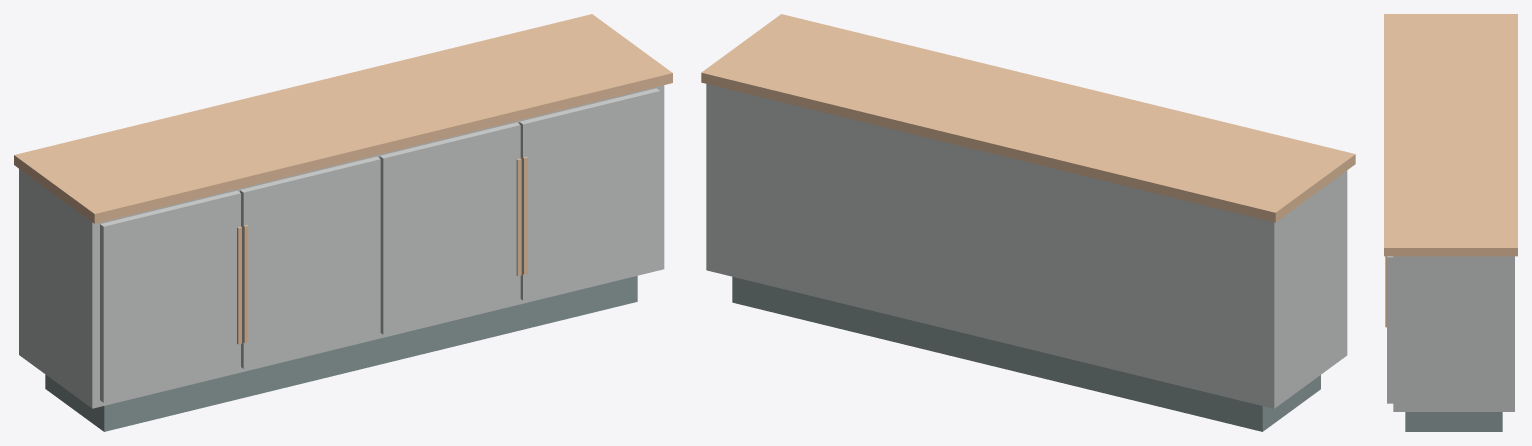
The model's file is credenzaModern.glb.
The picture shows the model from 3 angles, left to right: view 1: azimuth 30°, elevation 25°; view 2: azimuth 150°, elevation 25°; view 3: azimuth 270°, elevation 25°; orthographic projection. The views are drawn at different scales.
Visible parts, largest first — view 1: credenzaModern; view 2: credenzaModern; view 3: credenzaModern.
Part boxes in pixels (x1=…): credenzaModern: x1=14, y1=14, x2=672, y2=431; credenzaModern: x1=701, y1=14, x2=1355, y2=431; credenzaModern: x1=1384, y1=14, x2=1517, y2=431.
Bounding box in the file's own units: 0.91 × 0.35 × 0.22.
